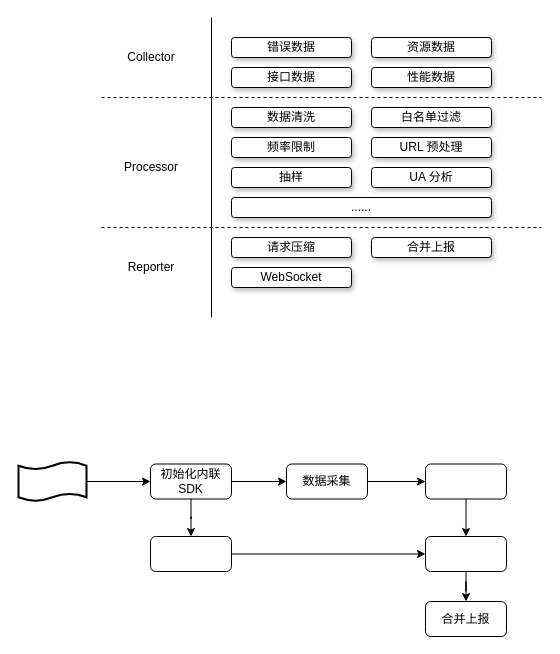
This 560x654 diagram has some shape labels left out. Here are the shapes that lost their labels. From the top down, the centre of each, then its label:
At (52,481): "入口".
At (465,481): "预上报池".
At (191,554): "加载主体 SDK".
At (465,554): "数据预处理".
